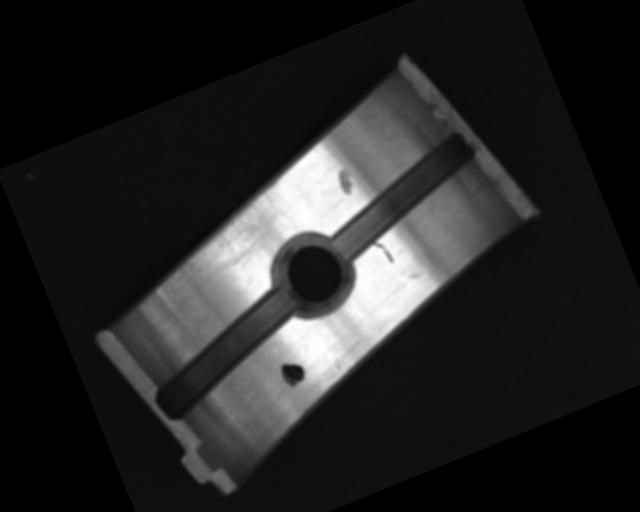blot: (276, 356, 309, 391)
bruise: (333, 165, 358, 199)
gap: (135, 285, 321, 422), (311, 128, 494, 262)
hole: (259, 220, 366, 325)
nick: (371, 237, 394, 267)
scratch: (151, 174, 307, 288)
